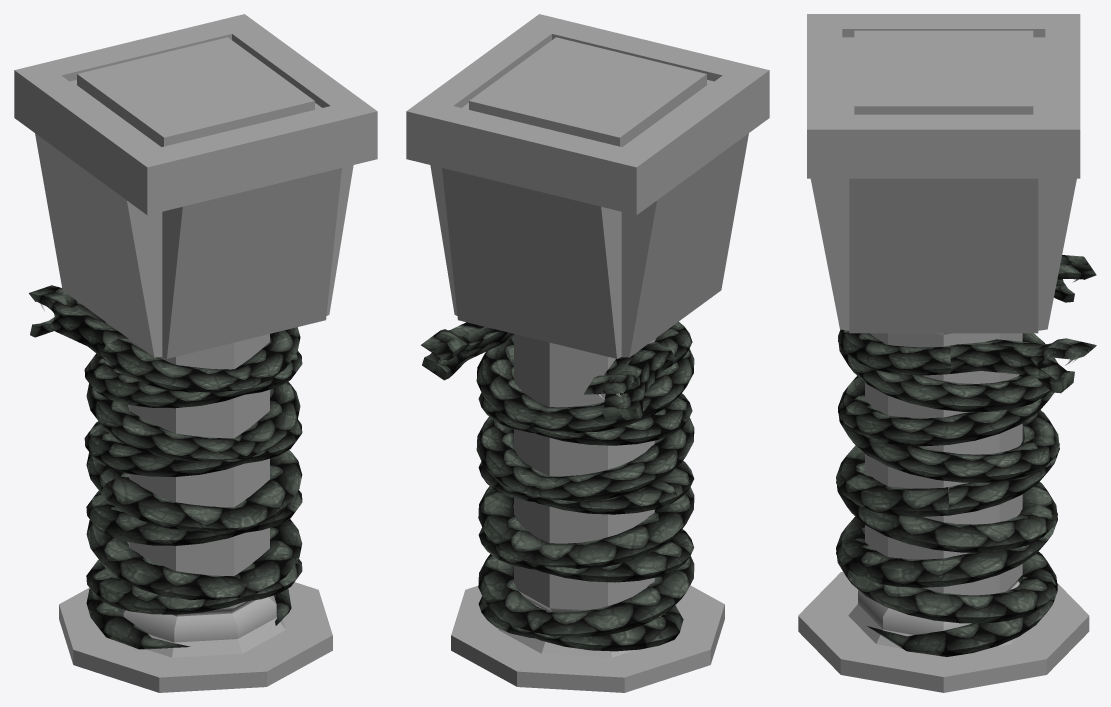
File: Snake_Pillir.fbx
3 renders of one model, left to right at view 1: azimuth 30°, elevation 25°; view 2: azimuth 150°, elevation 25°; view 3: azimuth 270°, elevation 25°, orthographic. The views are drawn at different scales.
Visible parts, largest first — view 1: pCube2, pCube1, pCylinder3, polySurface68, polySurface69, polySurface67, polySurface62; view 2: pCube2, pCube1, pCylinder3, polySurface68, polySurface62, polySurface69, polySurface67; view 3: pCube2, pCube1, pCylinder3, polySurface62, polySurface67, polySurface68, polySurface69.
Part boxes in pixels (box(x1,y1,x2,y2)): pCube2: box(14, 14, 377, 215); pCube1: box(35, 133, 353, 358); pCylinder3: box(59, 334, 332, 692); polySurface68: box(29, 285, 302, 498); polySurface69: box(86, 477, 302, 649); polySurface67: box(86, 450, 302, 625); polySurface62: box(84, 327, 300, 476); pCube2: box(406, 14, 769, 215); pCube1: box(430, 133, 748, 358); pCylinder3: box(451, 334, 724, 692); polySurface68: box(476, 321, 692, 514); polySurface62: box(421, 322, 694, 501); polySurface69: box(478, 460, 694, 651); polySurface67: box(478, 487, 694, 638); pCube2: box(807, 14, 1080, 178); pCube1: box(810, 178, 1076, 333); pCylinder3: box(798, 333, 1089, 692); polySurface62: box(838, 330, 1096, 515); polySurface67: box(836, 469, 1057, 656); polySurface68: box(838, 255, 1096, 482); polySurface69: box(836, 445, 1057, 623).
Size of the model in its own units: 1.13 by 2.41 by 1.16.
